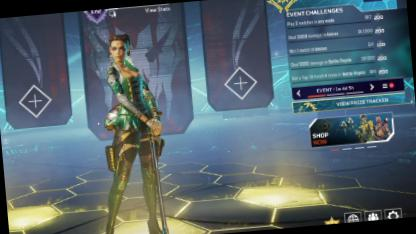Target: (99, 29, 158, 198)
